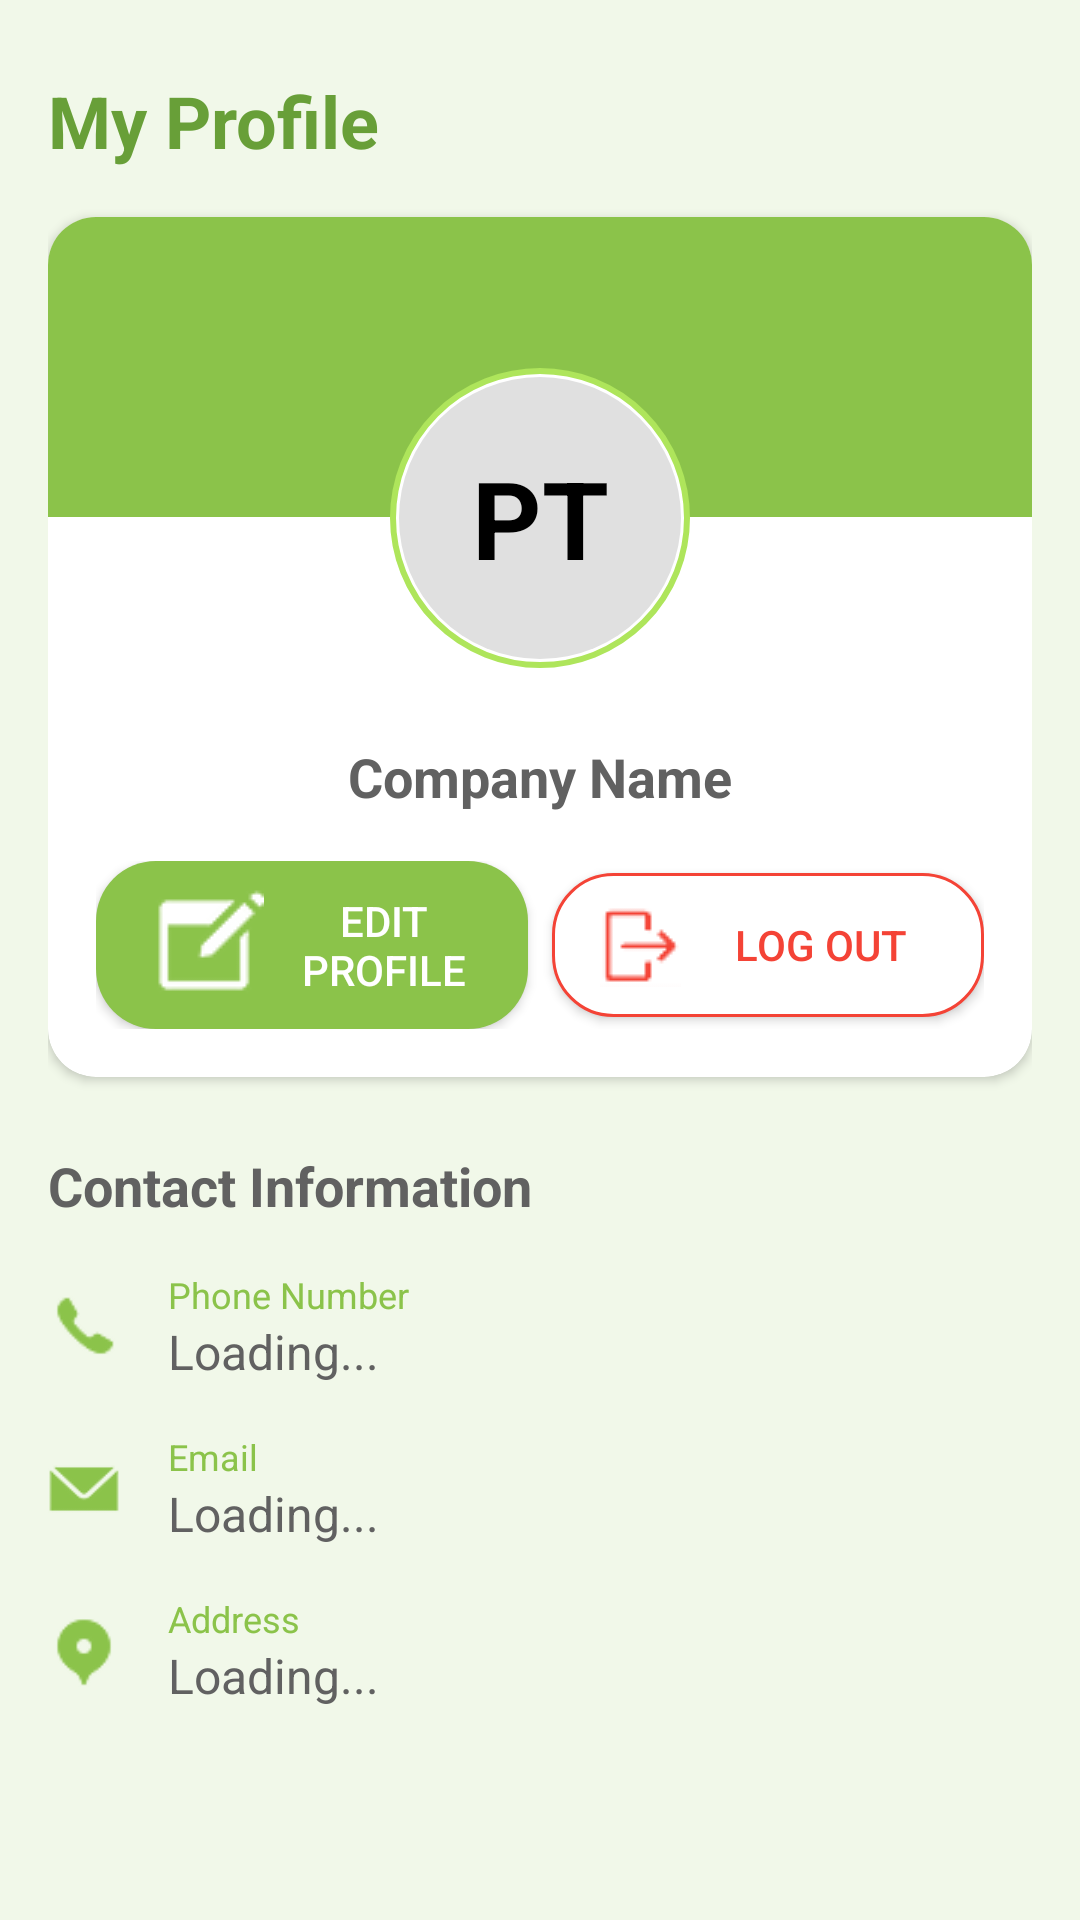

Screen size 1080x1920. Icon name, then its center in pixels as (x,y):
call: (85,1325)
location: (84,1652)
